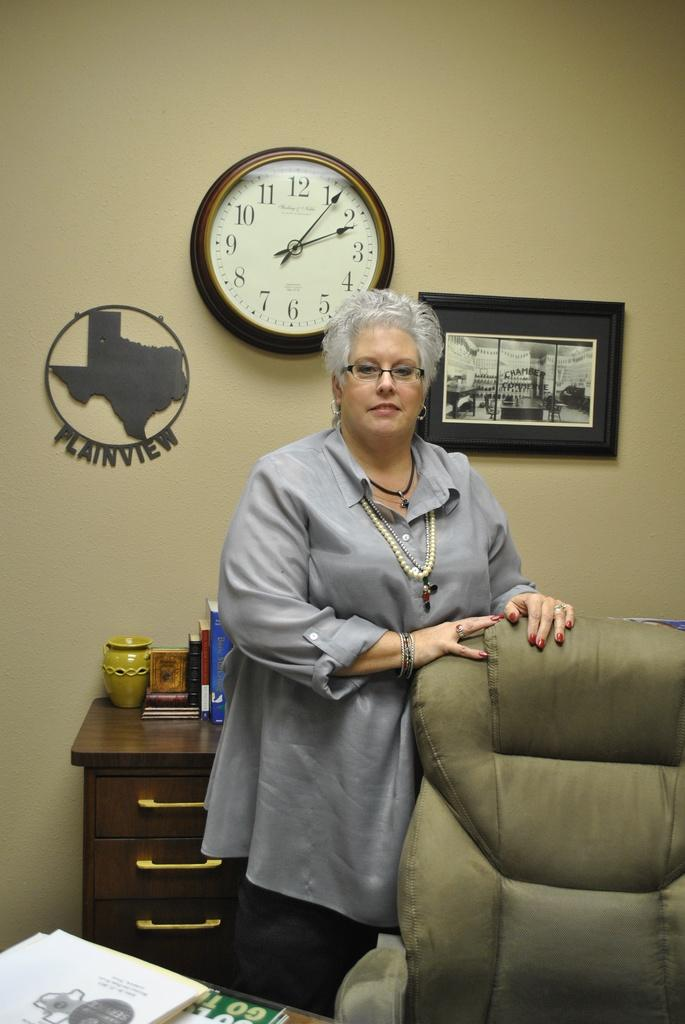Chair: (333, 613, 684, 1023)
